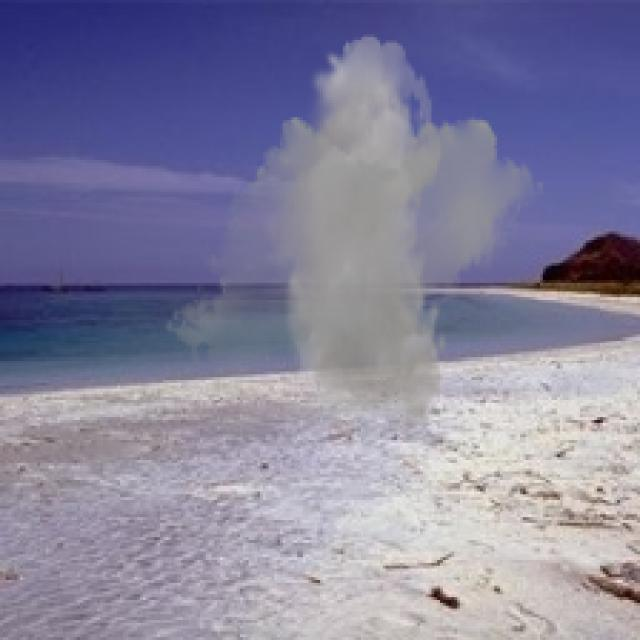Smoke: (163, 34, 546, 434)
